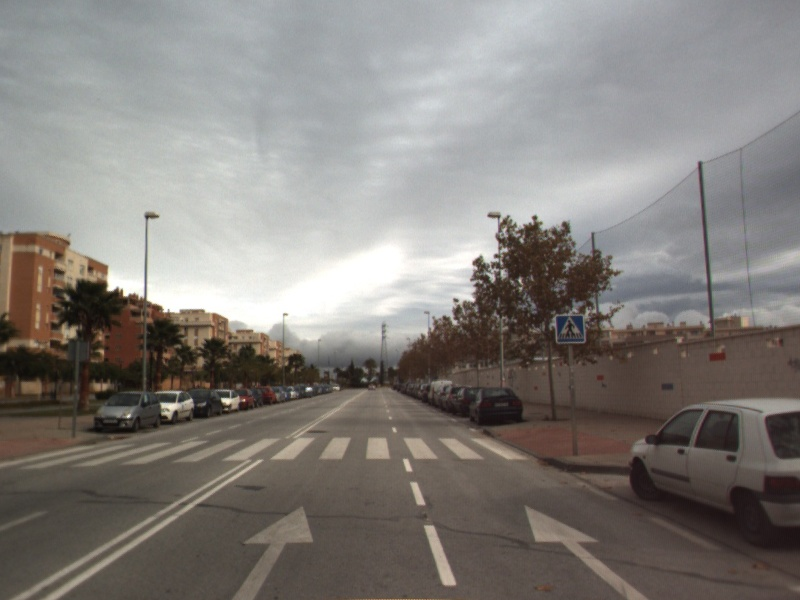STRAIGHT: (522, 503, 653, 600), (229, 504, 316, 600)
